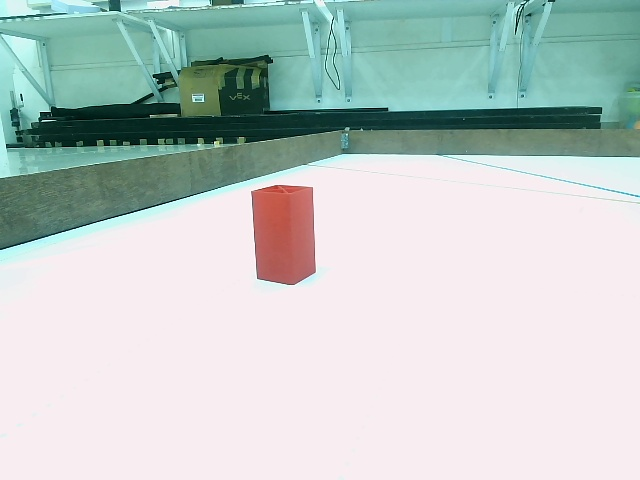red: (250, 188, 317, 277)
